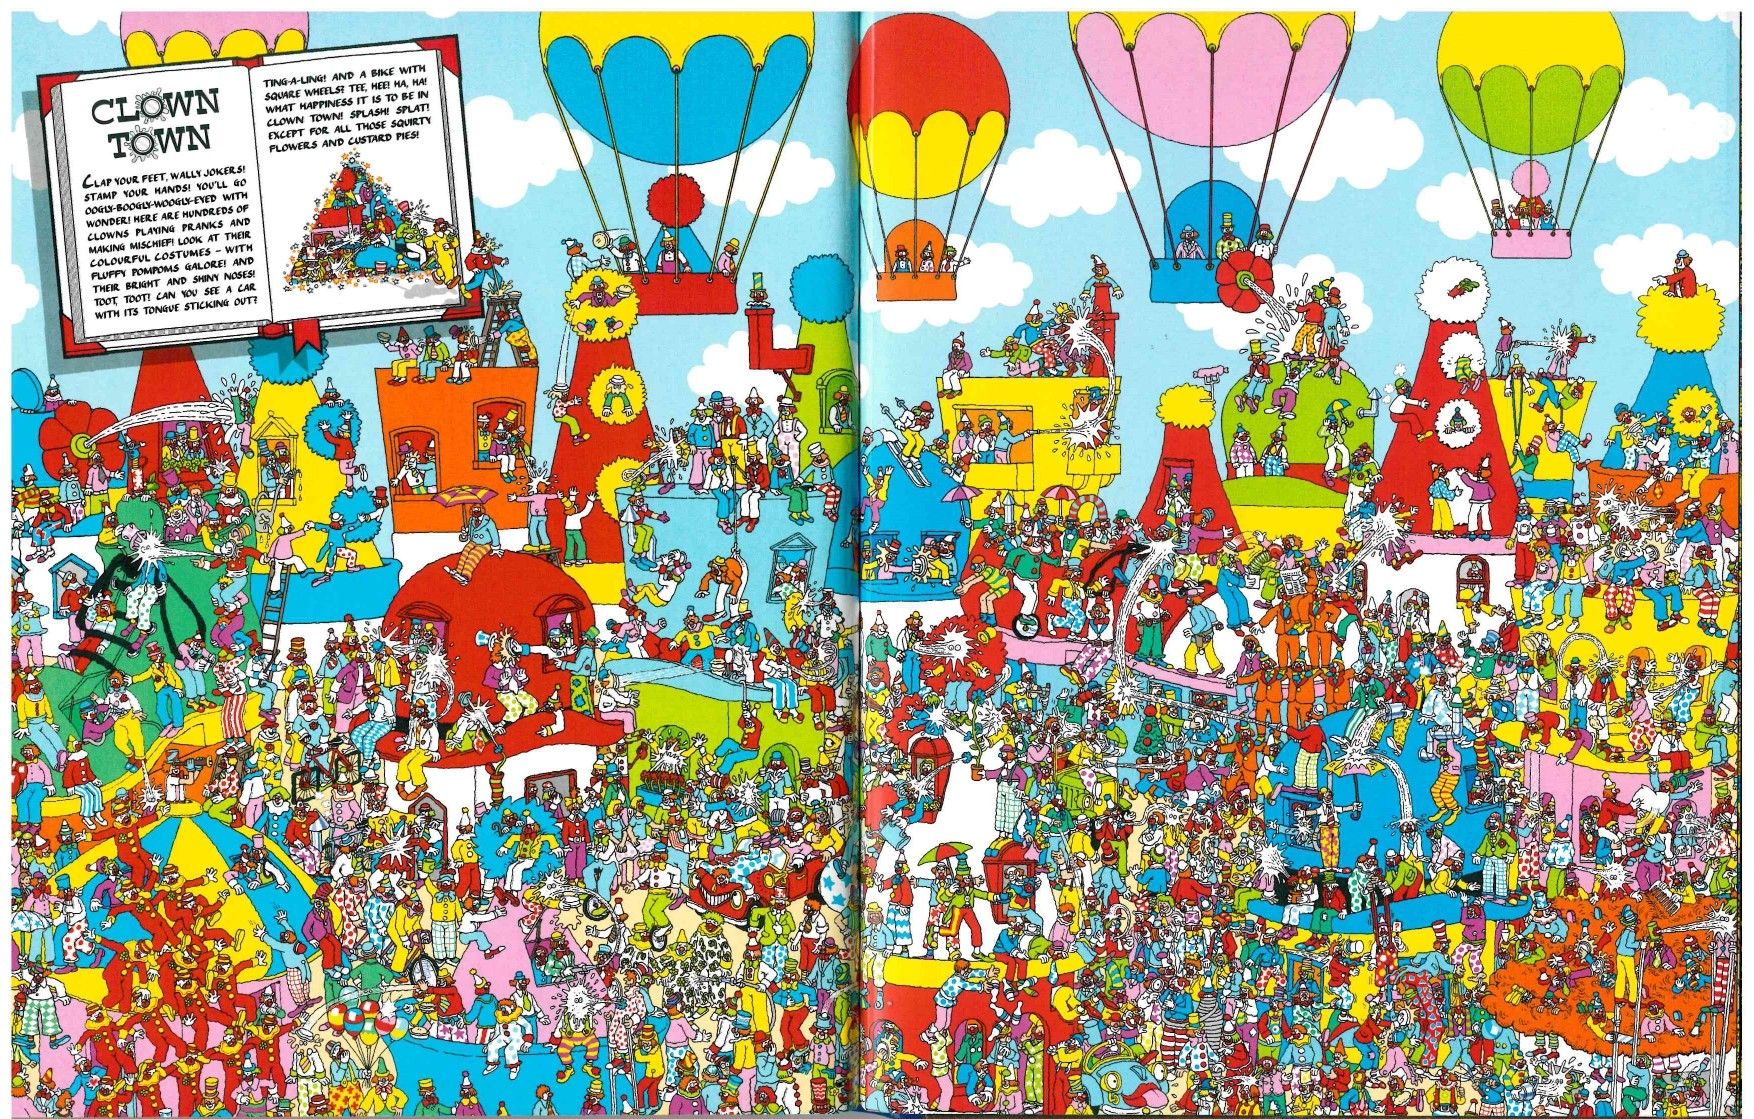waldos: (710, 1051, 734, 1092)
